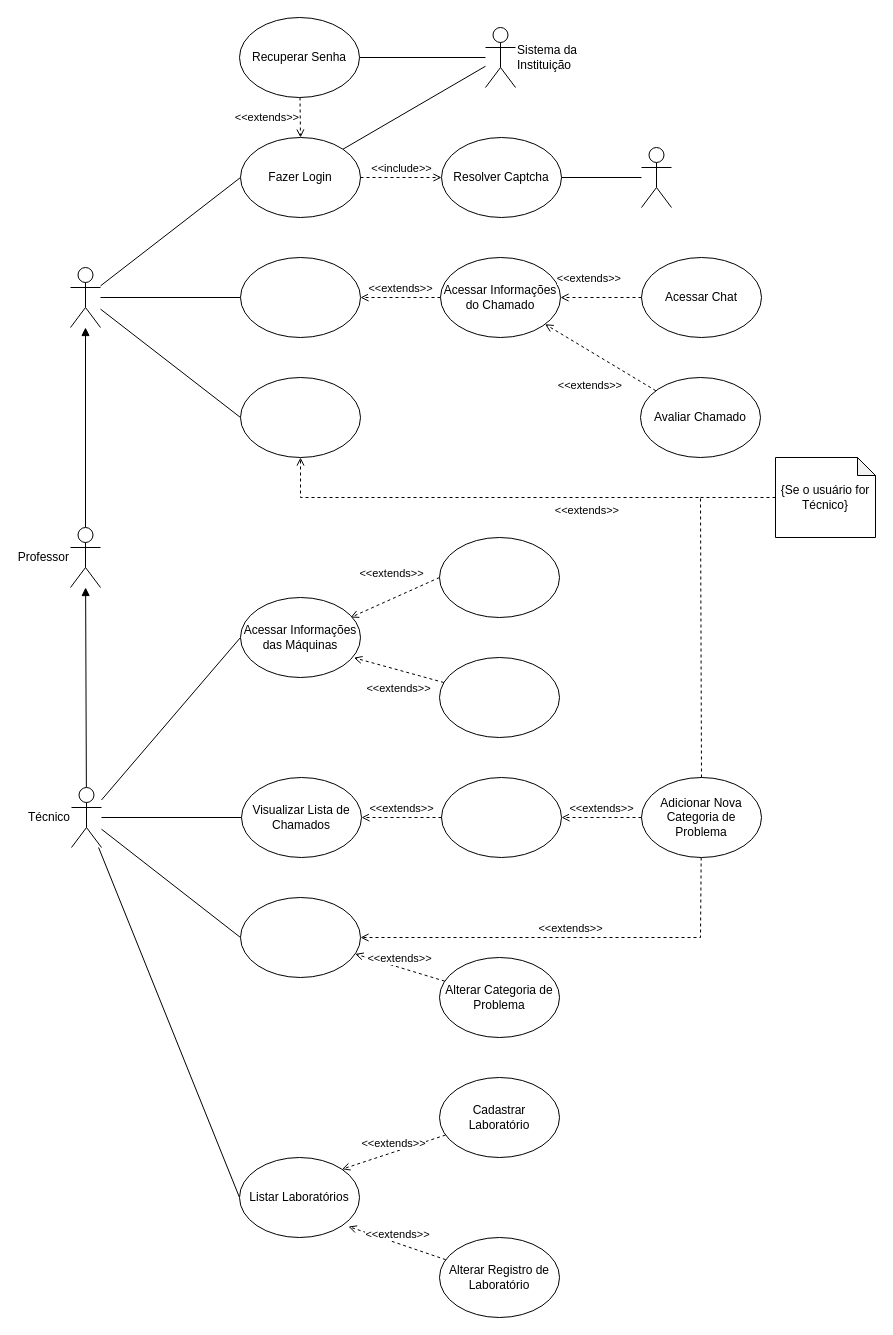
This 893x1335 diagram has some shape labels left out. The shapes that lost their labels are listed below. From the top down, each one's centre as x and y in pixels, then its label:
At point 656,177: "API Captcha do Google".
At point 85,297: "Aluno".
At point 300,297: "Listar Chamados do Usuário".
At point 300,417: "Abrir Chamado".
At point 499,577: "Cadastrar Máquina".
At point 499,697: "Alterar Informações Cadastradas".
At point 501,817: "Alterar Informações do Chamado".
At point 300,937: "Listar Categorias de Problema".
